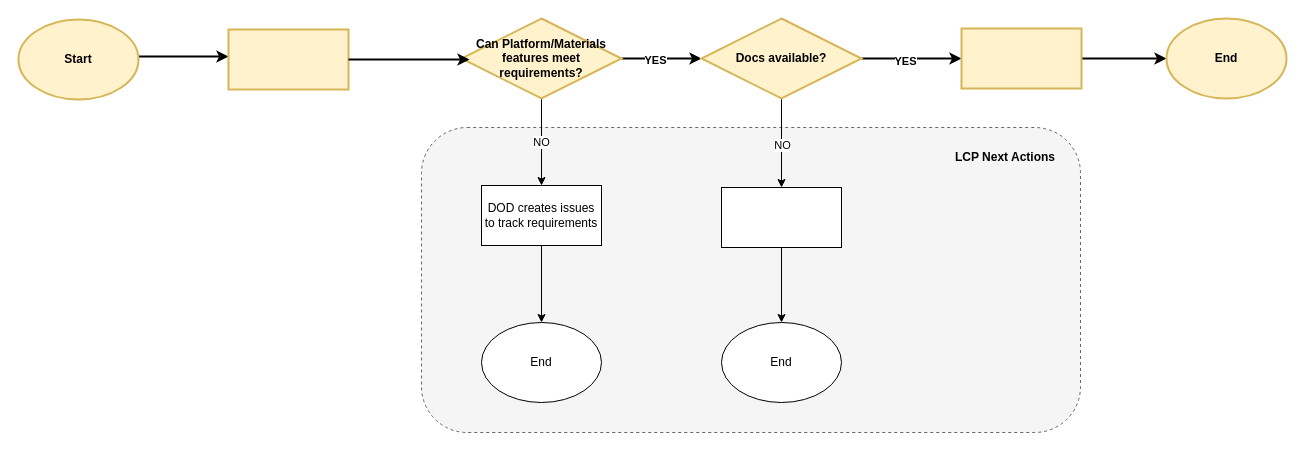
Some shapes in this 1304 by 450 pixel diagram are drawn without their labels. Here are the shapes that lost their labels. From the top down, the centre of each, then its label:
At pixel 288 59: "User report a problem".
At pixel 1021 58: "Provide Docs to User".
At pixel 781 217: "DOD creates issues to track docs change".
